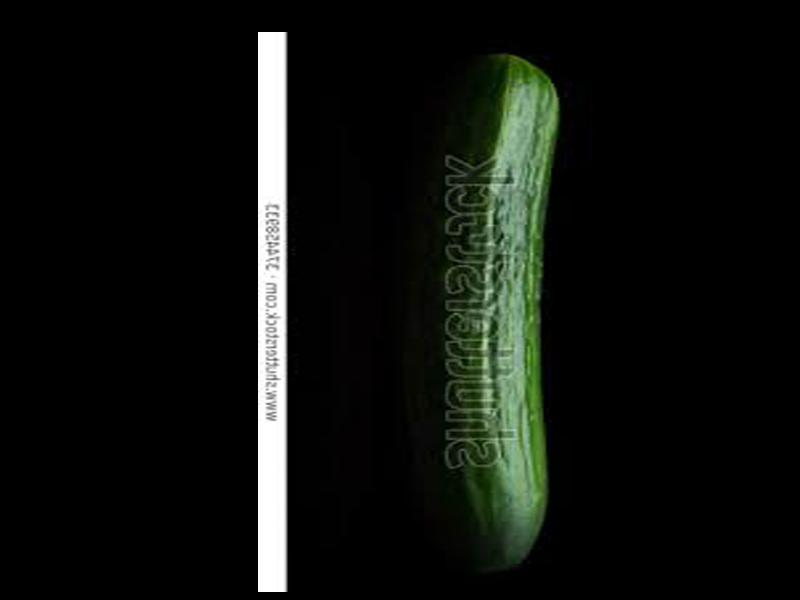Cucumber: (439, 51, 556, 570)
